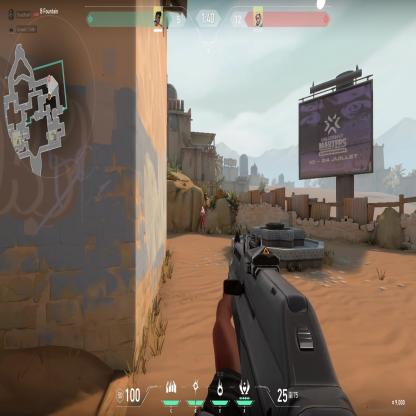enemy: (199, 205, 205, 236)
